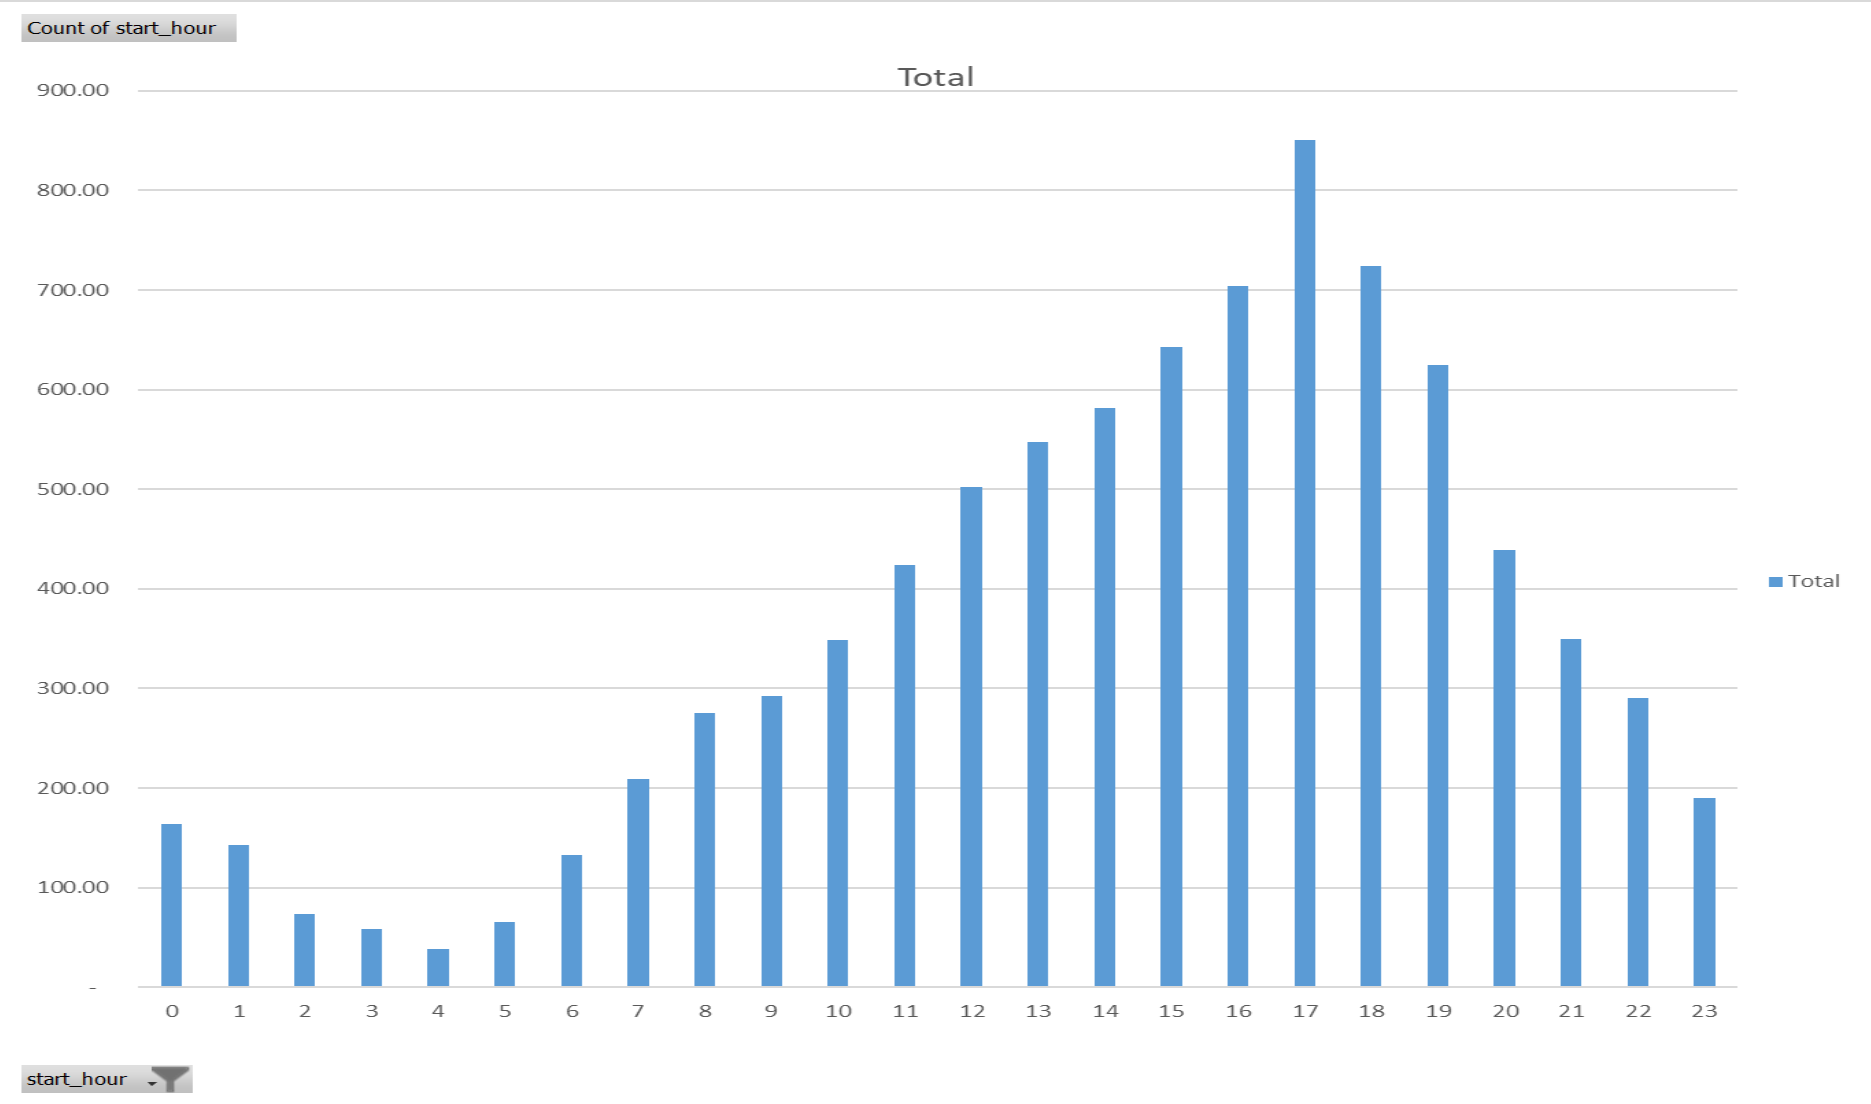

The page's visual inventory and layout, read from the dashboard file:
{"tool":"tableau","page":{"name":"Dashboard 1","canvas":[1000,800],"ordinal":0},"visuals":[{"type":"worksheet","title":"Sheet 1","mark":"Automatic","rows":["_CC00D834564444D4923F035712E53071"],"cols":["started_at"],"box":[8,8,984,784]}]}

Visuals, with their boxes on the page's 1000x800 design canvas (x1, y1, x2, y2). These are canvas units, not pixel positions in the 1871x1104 screenshot, which may show the page scaled, cropped or inside an application window:
"Sheet 1" worksheet: bbox=[8, 8, 992, 792]
